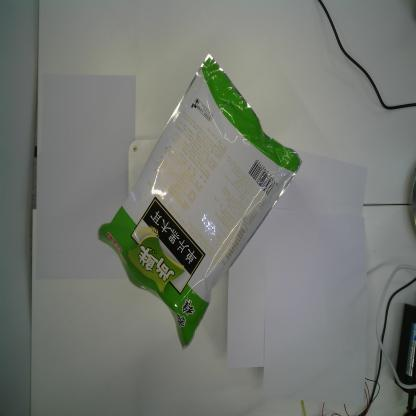Dried Food: (96, 53, 303, 353)
